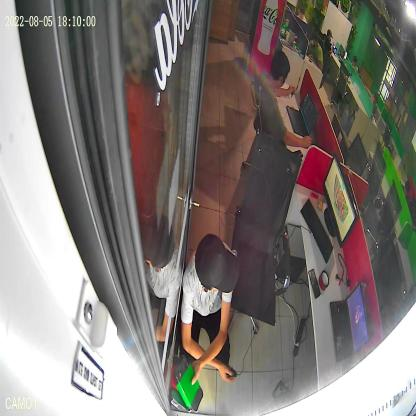green: (174, 356, 204, 413)
red: (170, 356, 190, 412)
